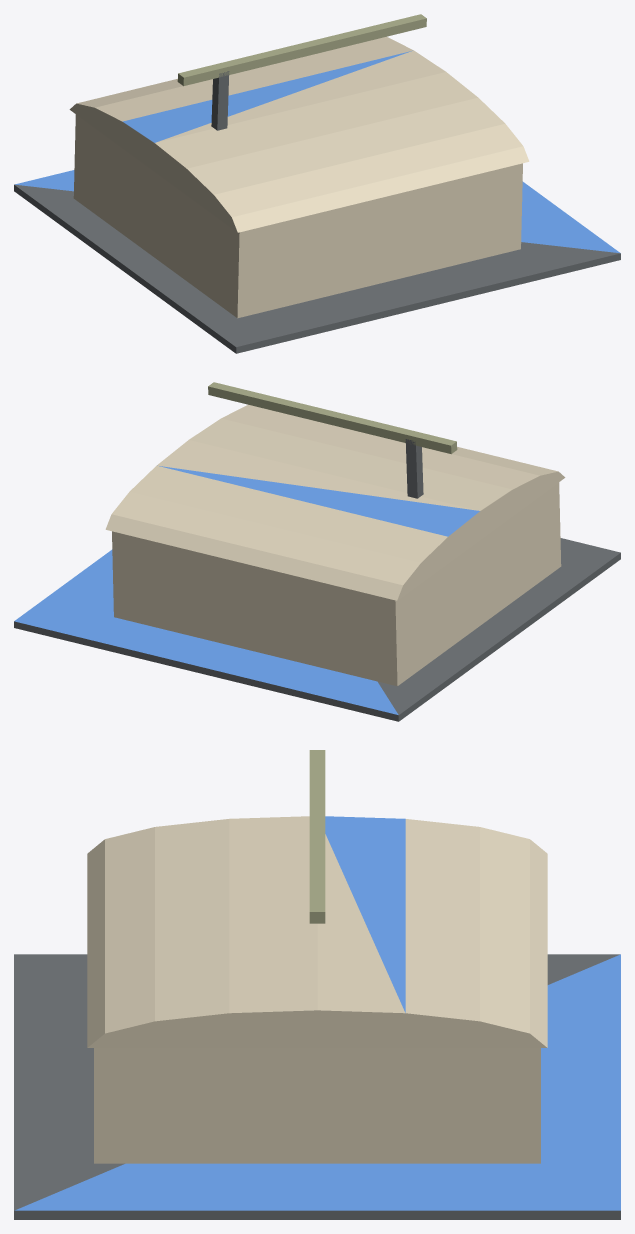
File: meridian_construction_center_damaged.glb
3 views of the same model, one above another, from view 1: azimuth 30°, elevation 25°; view 2: azimuth 150°, elevation 25°; view 3: azimuth 270°, elevation 25° (orthographic). The views are drawn at different scales.
Parts seen in each view (by area): view 1: hull, crane; view 2: hull, crane; view 3: hull, crane.
Part boxes in pixels (x1,y1,x2,y2): hull: (14,36,620,353); crane: (177,14,426,130); hull: (14,404,620,721); crane: (208,382,457,498); hull: (14,816,620,1219); crane: (309,750,325,923).
Bounding box in the file's own units: 15.2 × 6.92 × 15.2.
